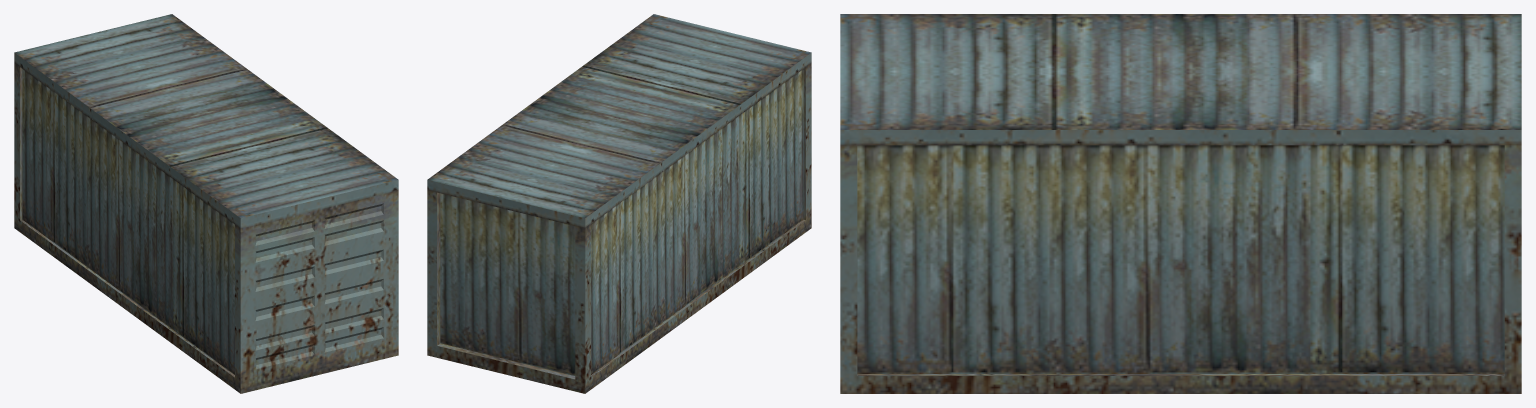
The model's file is Container2_LOD1.fbx.
3 renders of one model, left to right at view 1: azimuth 30°, elevation 25°; view 2: azimuth 150°, elevation 25°; view 3: azimuth 270°, elevation 25°, orthographic. The views are drawn at different scales.
Visible parts, largest first — view 1: cont2_polySurface30; view 2: cont2_polySurface30; view 3: cont2_polySurface30.
Part boxes in pixels (x1,y1,x2,y2): cont2_polySurface30: (14, 14, 398, 393); cont2_polySurface30: (427, 14, 811, 393); cont2_polySurface30: (840, 14, 1521, 393).
Bounding box in the file's own units: 2.25 × 2.39 × 5.59.
